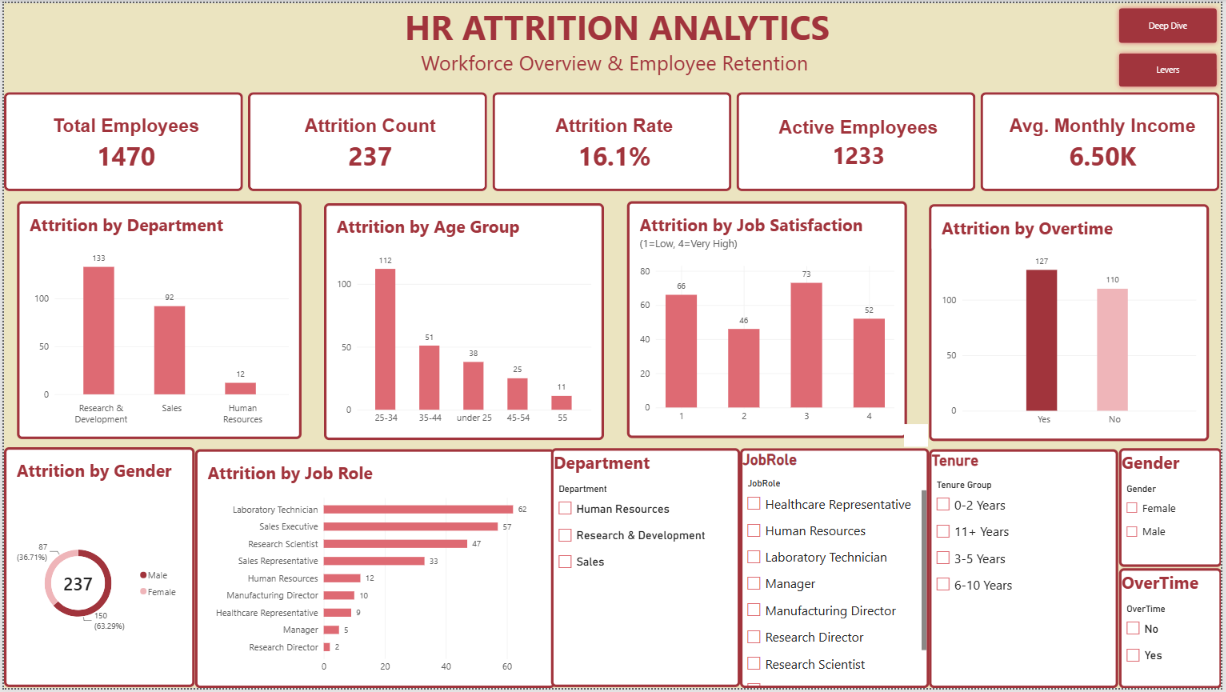

The page's visual inventory and layout, read from the dashboard file:
{"tool":"powerbi","page":{"name":"HR Executive Overview","canvas":[1920,1080],"ordinal":0},"visuals":[{"type":"cardVisual","fields":{"Data":["HR DATA.Total Employees","HR DATA.Attrition Count","HR DATA.Attrition Rate","HR DATA.Active Employees","HR DATA.Average Monthly Income"]},"box":[0,140.3,1920,156.1],"z":0},{"type":"textbox","box":[150,140,300,204],"z":1000},{"type":"textbox","box":[0,140,300,204],"z":2000},{"type":"textbox","box":[0,0,1724.7,165],"z":3000},{"type":"clusteredColumnChart","title":"Attrition by Department","fields":{"Category":["HR DATA.Department"],"Y":["HR DATA.Attrition Count"]},"box":[20.6,312.9,448.7,375.2],"z":4000},{"type":"clusteredBarChart","title":"Attrition by Job Role","fields":{"Category":["HR DATA.JobRole"],"Y":["HR DATA.Attrition Count"]},"box":[300.5,703.9,568.1,376.7],"z":5000},{"type":"clusteredColumnChart","title":"Attrition by Age Group","fields":{"Category":["HR DATA.Age Group "],"Y":["HR DATA.Attrition Count"]},"box":[504.3,314.9,441.4,373.3],"z":6000},{"type":"donutChart","title":"Attrition by Gender","fields":{"Category":["HR DATA.Gender"],"Y":["HR DATA.Attrition Count"]},"box":[0,699.8,300.5,378.7],"z":7000},{"type":"clusteredColumnChart","title":"Attrition by Job Satisfaction","fields":{"Category":["HR DATA.JobSatisfaction"],"Y":["HR DATA.Attrition Count"]},"box":[981.8,312.9,441.4,373.3],"z":8000},{"type":"clusteredColumnChart","title":"Attrition by Overtime","fields":{"Category":["HR DATA.OverTime"],"Y":["HR DATA.Attrition Count"]},"box":[1459.4,317,441.4,373.3],"z":9000},{"type":"slicer","title":"Department ","fields":{"Values":["HR DATA.Department"]},"box":[862.4,701.9,298.5,376.7],"z":10000},{"type":"slicer","title":"Gender ","fields":{"Values":["HR DATA.Gender"]},"box":[1757.8,701.9,162.6,187.3],"z":11000},{"type":"slicer","title":"OverTime","fields":{"Values":["HR DATA.OverTime"]},"box":[1757.8,891.3,162.6,189.4],"z":12000},{"type":"slicer","title":"JobRole","fields":{"Values":["HR DATA.JobRole"]},"box":[1160.9,701.9,298.5,378.7],"z":13000},{"type":"slicer","title":"Tenure ","fields":{"Values":["HR DATA.Tenure Group "]},"box":[1459.4,703.9,298.5,376.7],"z":14000},{"type":"actionButton","box":[1750.4,0,170,70.8],"z":15000},{"type":"actionButton","box":[1750.4,70.8,170,68.8],"z":16000}]}

Visuals, with their boxes in screenshot pixels (x1, y1, x2, y2), scaled from the page's 1920x1080 canvas onto the 1226x692 screenshot:
cardVisual - HR DATA.Total Employees x HR DATA.Attrition Count: [left=0, top=90, right=1225, bottom=190]
textbox: [left=96, top=90, right=287, bottom=220]
textbox: [left=0, top=90, right=192, bottom=220]
textbox: [left=0, top=0, right=1101, bottom=106]
"Attrition by Department" clusteredColumnChart: [left=13, top=200, right=300, bottom=441]
"Attrition by Job Role" clusteredBarChart: [left=192, top=451, right=555, bottom=691]
"Attrition by Age Group" clusteredColumnChart: [left=322, top=202, right=604, bottom=441]
"Attrition by Gender" donutChart: [left=0, top=448, right=192, bottom=691]
"Attrition by Job Satisfaction" clusteredColumnChart: [left=627, top=200, right=909, bottom=440]
"Attrition by Overtime" clusteredColumnChart: [left=932, top=203, right=1214, bottom=442]
"Department " slicer: [left=551, top=450, right=741, bottom=691]
"Gender " slicer: [left=1122, top=450, right=1225, bottom=570]
"OverTime" slicer: [left=1122, top=571, right=1225, bottom=691]
"JobRole" slicer: [left=741, top=450, right=932, bottom=691]
"Tenure " slicer: [left=932, top=451, right=1122, bottom=691]
actionButton: [left=1118, top=0, right=1225, bottom=45]
actionButton: [left=1118, top=45, right=1225, bottom=89]
